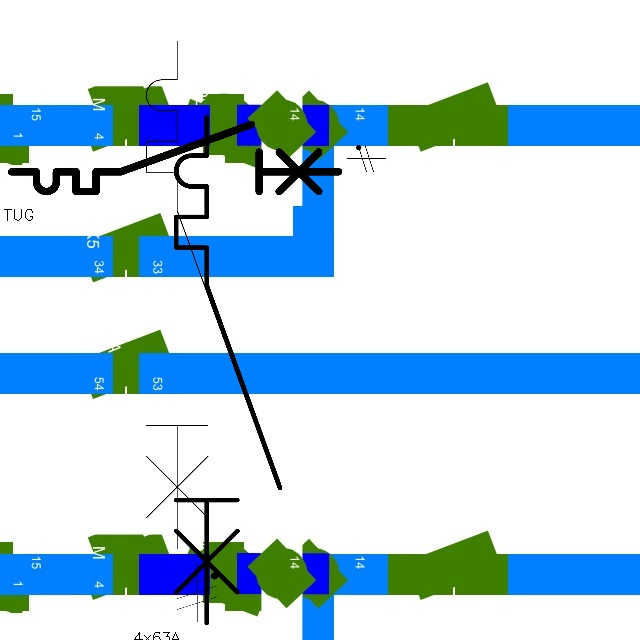interruptor_termomagnetico: (133, 28, 263, 562), (163, 104, 293, 636), (3, 116, 347, 200)
